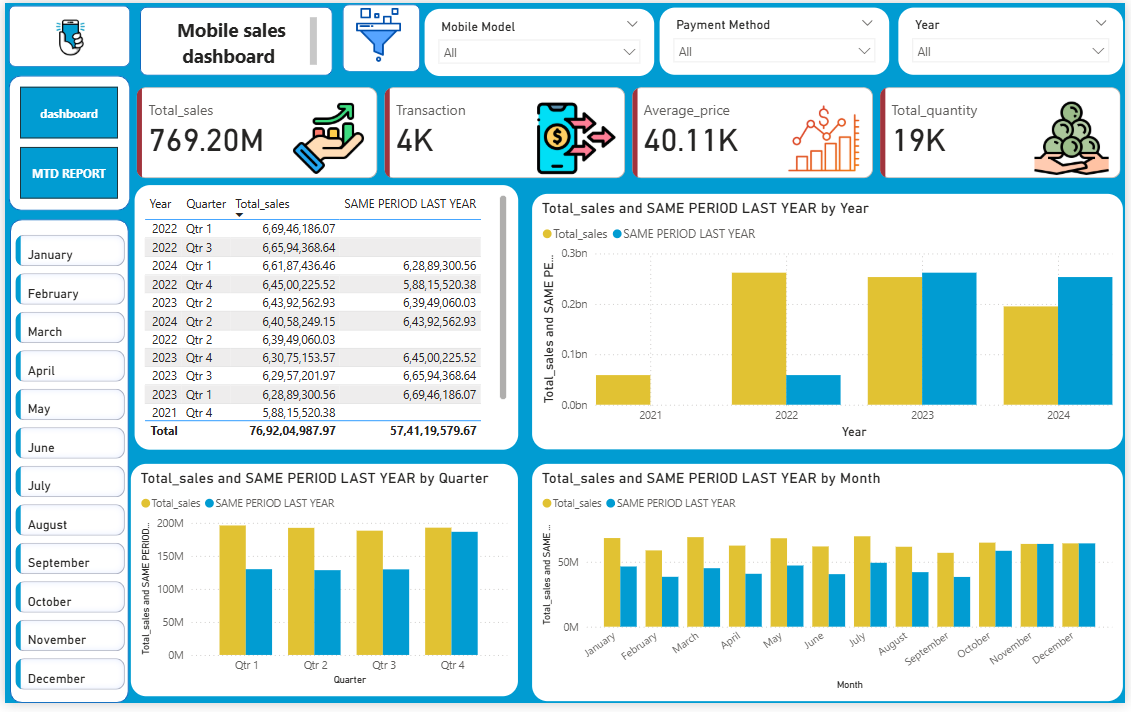

The dashboard page shown, as its layout file describes it:
{"tool":"powerbi","page":{"name":"SAME PERIOD LAST YEAR","canvas":[1280,800],"ordinal":2},"visuals":[{"type":"shape","box":[4.3,2.9,138.6,70],"z":0},{"type":"image","box":[42.9,7.1,64.3,64.3],"z":1000},{"type":"shape","box":[4.3,82.9,138.6,154.3],"z":2000},{"type":"cardVisual","fields":{"Data":["Sales_data.Total_sales","Sales_data.Transaction","Sales_data.Average_price","Sales_data.Total_quantity"]},"box":[145.7,91.4,1134.3,114.3],"z":3000},{"type":"slicer","fields":{"Values":["Custom Calander.Date.Variation.Date Hierarchy.Year"]},"box":[1018.6,2.9,261.4,81.4],"z":4000},{"type":"slicer","fields":{"Values":["Sales_data.Payment Method"]},"box":[745.7,2.9,267.1,81.4],"z":5000},{"type":"slicer","fields":{"Values":["Sales_data.Mobile Model"]},"box":[477.1,4.3,267.1,81.4],"z":6000},{"type":"shape","box":[385.7,1.4,88.6,77.1],"z":7000},{"type":"image","box":[358.6,0,137.1,72.9],"z":8000},{"type":"shape","box":[154.3,4.3,220,78.6],"z":9000},{"type":"textbox","box":[162.9,11.4,198.6,65.7],"z":10000},{"type":"shape","box":[5.7,247.1,135.7,552.9],"z":11000},{"type":"advancedSlicerVisual","fields":{"Values":["Custom Calander.Date.Variation.Date Hierarchy.Month"]},"box":[7.1,260,135.7,540],"z":12000},{"type":"tableEx","fields":{"Values":["Custom Calander.Date.Variation.Date Hierarchy.Year","Custom Calander.Date.Variation.Date Hierarchy.Quarter","Sales_data.Total_sales","Sales_data.SAME PERIOD LAST YEAR"]},"box":[145.7,205.7,442.9,307.1],"z":13000},{"type":"clusteredColumnChart","fields":{"Category":["Custom Calander.Date.Variation.Date Hierarchy.Year","Custom Calander.Date.Variation.Date Hierarchy.Quarter","Custom Calander.Date.Variation.Date Hierarchy.Month","Custom Calander.Date.Variation.Date Hierarchy.Day"],"Y":["Sales_data.Total_sales","Sales_data.SAME PERIOD LAST YEAR"]},"box":[600,524.3,680,275.7],"z":14000},{"type":"clusteredColumnChart","fields":{"Category":["Custom Calander.Date.Variation.Date Hierarchy.Year","Custom Calander.Date.Variation.Date Hierarchy.Quarter"],"Y":["Sales_data.Total_sales","Sales_data.SAME PERIOD LAST YEAR"]},"box":[600,215.7,680,297.1],"z":15000},{"type":"clusteredColumnChart","fields":{"Category":["Custom Calander.Date.Variation.Date Hierarchy.Year","Custom Calander.Date.Variation.Date Hierarchy.Quarter"],"Y":["Sales_data.Total_sales","Sales_data.SAME PERIOD LAST YEAR"]},"box":[141.4,524.3,447.1,270],"z":16000},{"type":"pageNavigator","box":[17.5,96.2,112.5,128.8],"z":16001}]}

Visuals, with their boxes in screenshot pixels (x1, y1, x2, y2), scaled from the page's 1280x800 canvas onto the 1131x712 screenshot:
shape: locate(4, 3, 126, 65)
image: locate(38, 6, 95, 64)
shape: locate(4, 74, 126, 211)
cardVisual - Sales_data.Total_sales x Sales_data.Transaction: locate(129, 81, 1130, 183)
slicer - Custom Calander.Date.Variation.Date Hierarchy.Year: locate(900, 3, 1130, 75)
slicer - Sales_data.Payment Method: locate(659, 3, 895, 75)
slicer - Sales_data.Mobile Model: locate(422, 4, 658, 76)
shape: locate(341, 1, 419, 70)
image: locate(317, 0, 438, 65)
shape: locate(136, 4, 331, 74)
textbox: locate(144, 10, 319, 69)
shape: locate(5, 220, 125, 711)
advancedSlicerVisual - Custom Calander.Date.Variation.Date Hierarchy.Month: locate(6, 231, 126, 711)
tableEx - Custom Calander.Date.Variation.Date Hierarchy.Year x Custom Calander.Date.Variation.Date Hierarchy.Quarter: locate(129, 183, 520, 456)
clusteredColumnChart - Custom Calander.Date.Variation.Date Hierarchy.Year x Custom Calander.Date.Variation.Date Hierarchy.Quarter: locate(530, 467, 1130, 711)
clusteredColumnChart - Custom Calander.Date.Variation.Date Hierarchy.Year x Custom Calander.Date.Variation.Date Hierarchy.Quarter: locate(530, 192, 1130, 456)
clusteredColumnChart - Custom Calander.Date.Variation.Date Hierarchy.Year x Custom Calander.Date.Variation.Date Hierarchy.Quarter: locate(125, 467, 520, 707)
pageNavigator: locate(15, 86, 115, 200)
